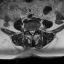CCS_normal: (31, 28, 33, 36)
LFS_severe_stenosis: (35, 28, 37, 32)
LLS_stenosis: (33, 28, 35, 34)
RFS_severe_stenosis: (27, 28, 29, 33)
RLS_stenosis: (29, 28, 31, 34)
